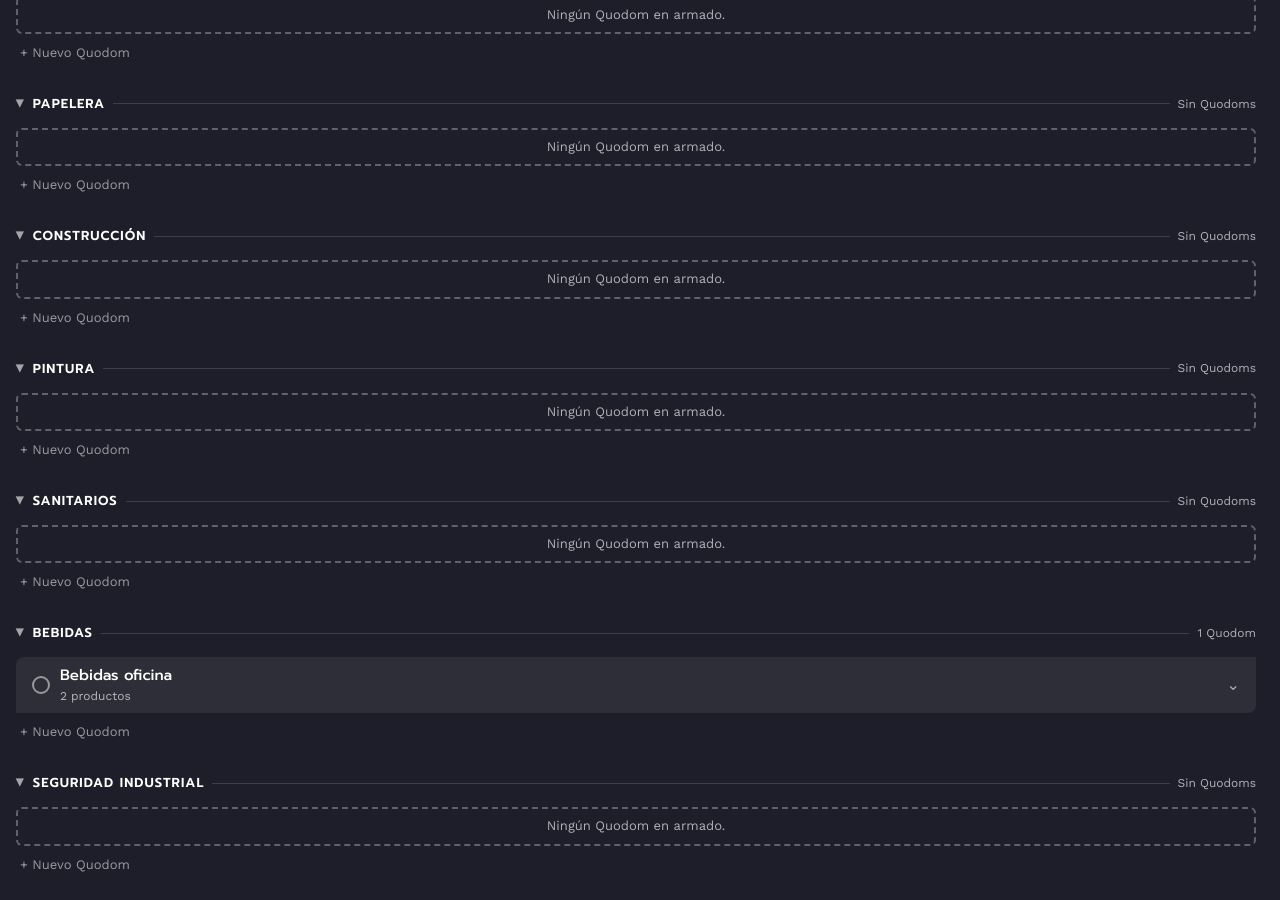
sidebar: mini editor › el clic despliega los productos en vez de navegar
(page scrolled)
Expected: the text "Coca Cola 2L" is not shown
Click the text "Bebidas oficina" at [116, 676], box left=60, top=664, right=172, bottom=686
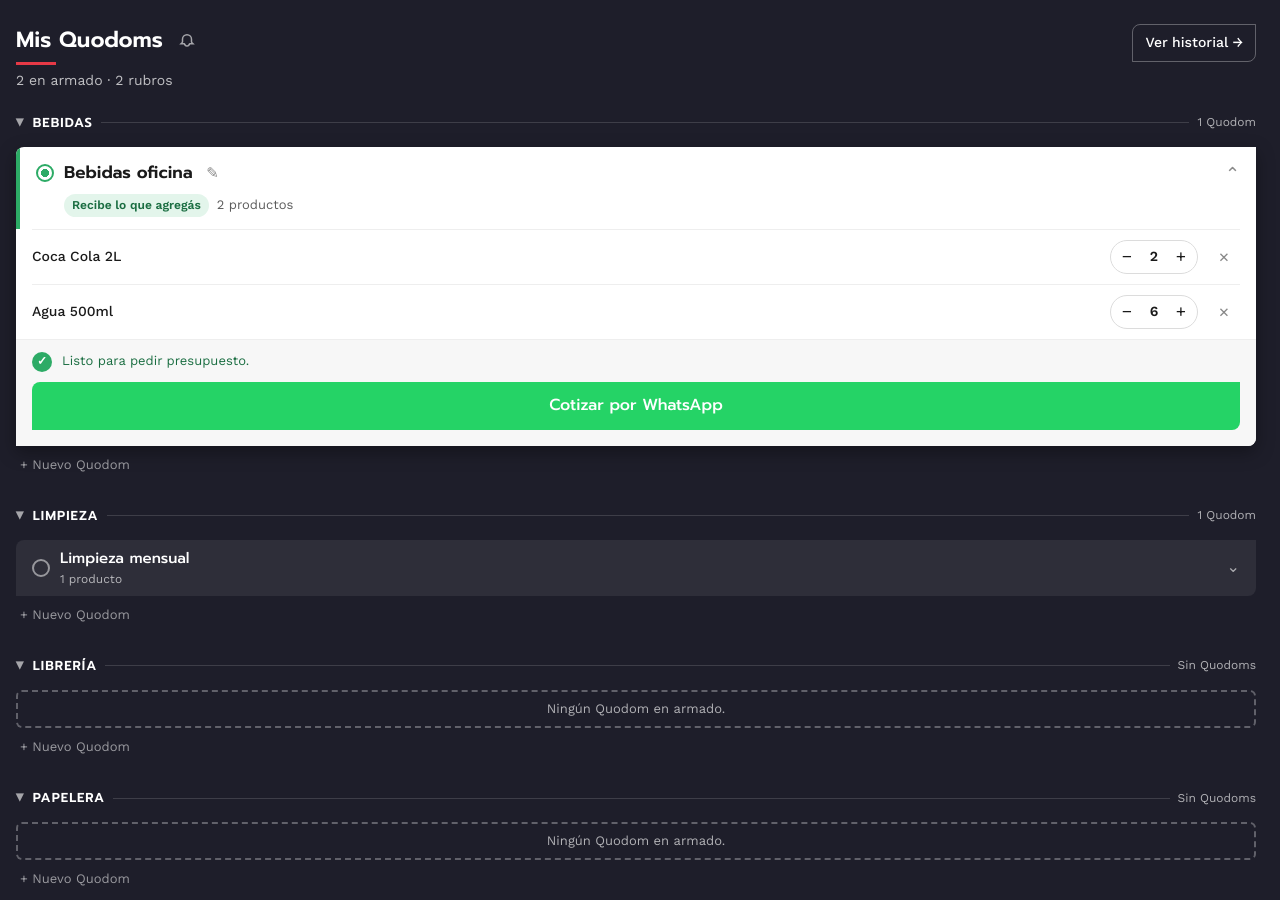
Expected: the text "Coca Cola 2L" is shown, left=32, top=248, right=121, bottom=266
